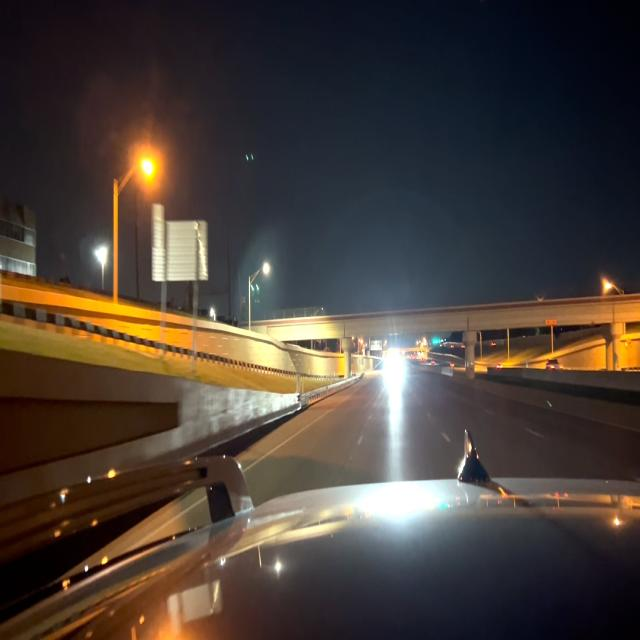back-of-sign: (152, 219, 209, 282), (153, 204, 164, 219)
